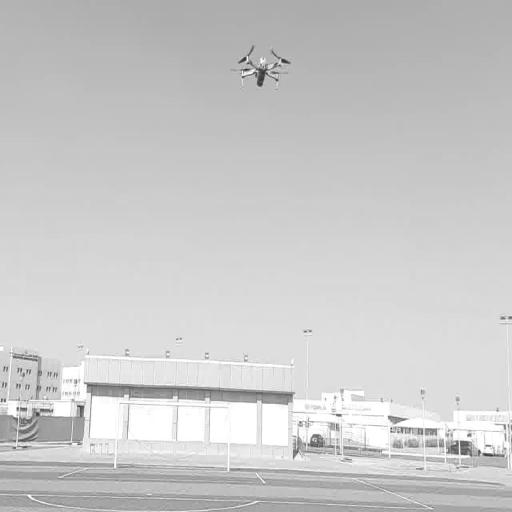drone: (228, 44, 291, 92)
